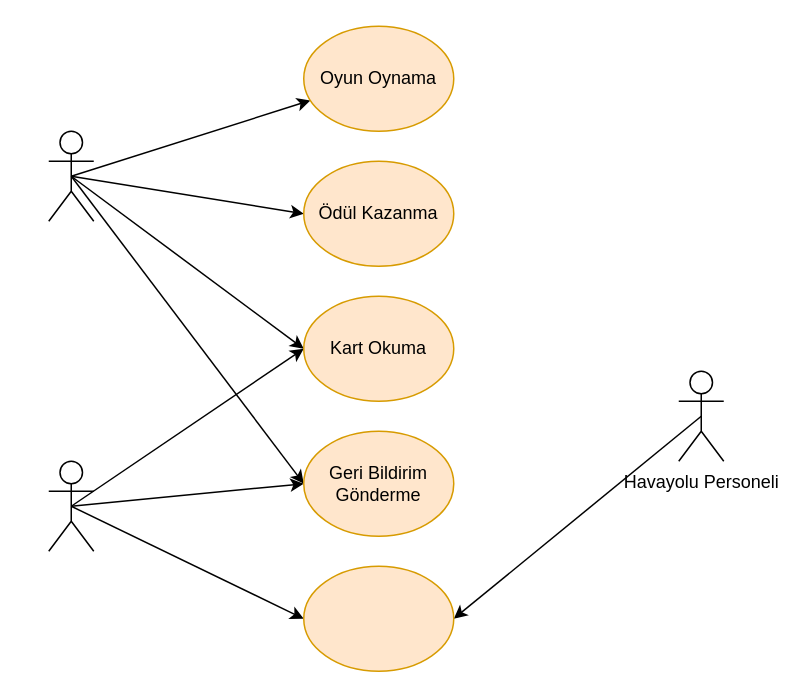
Some shapes in this 804 by 698 pixel diagram are drawn without their labels. The shapes that lost their labels are listed below. From the top down, each one's centre as x and y in pixels, then its label:
At (x=70, y=175): "Çocuklar".
At (x=70, y=505): "Ebeveynler".
At (x=378, y=618): "Kart Yönetimi".
